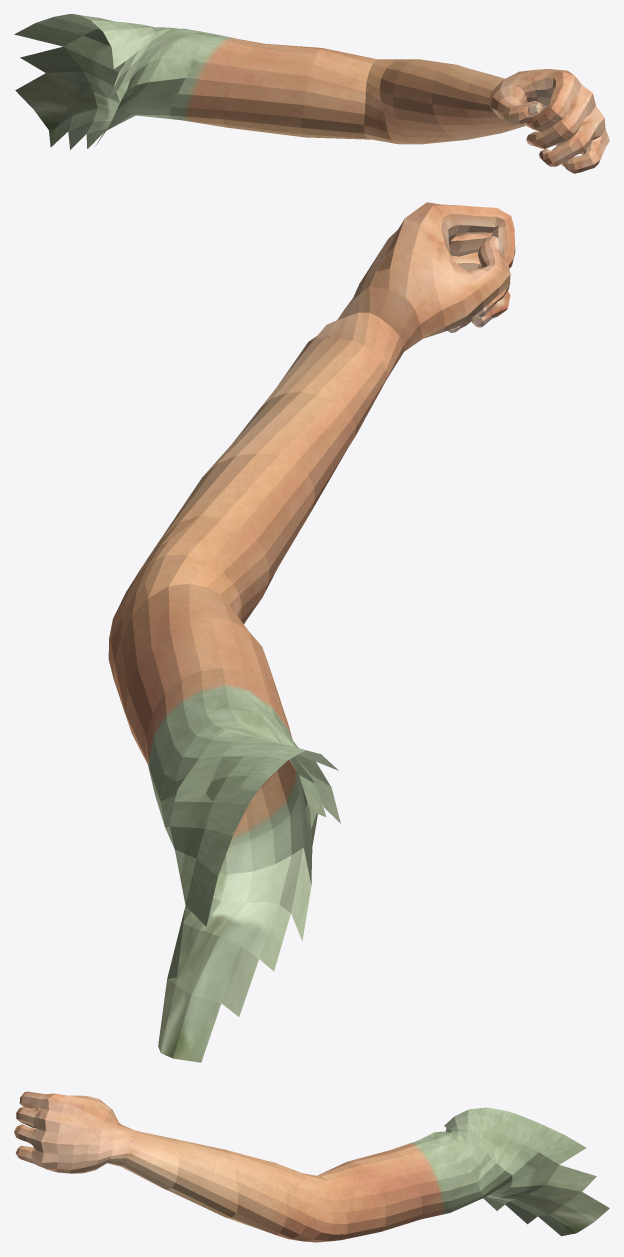
Rendered from hjhfjhfjhdfjhdjf.FBX.
3 views of the same model, one above another, from view 1: azimuth 30°, elevation 25°; view 2: azimuth 150°, elevation 25°; view 3: azimuth 270°, elevation 25° (orthographic). The views are drawn at different scales.
Visible parts, largest first — view 1: Object; view 2: Object; view 3: Object.
Boxes of the visible parts, box(x1,y1,x2,y2) form: Object: box(14, 14, 609, 173); Object: box(108, 202, 515, 1062); Object: box(14, 1091, 609, 1242).
Bounding box in the file's own units: 22.6 × 24.61 × 63.36.
Materials: 1 (1 with a texture image).
